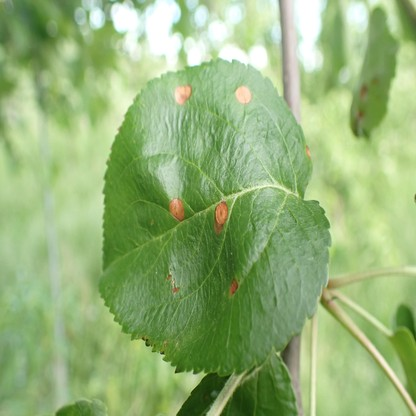frogeye_leaf_spot: (214, 200, 228, 232), (173, 84, 193, 103), (169, 198, 185, 220), (236, 84, 251, 104), (229, 278, 238, 296), (305, 145, 311, 161)
